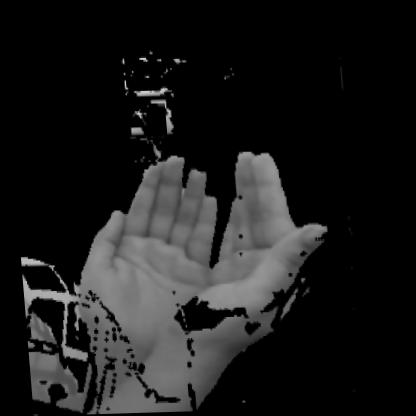dua: (15, 121, 346, 414)
